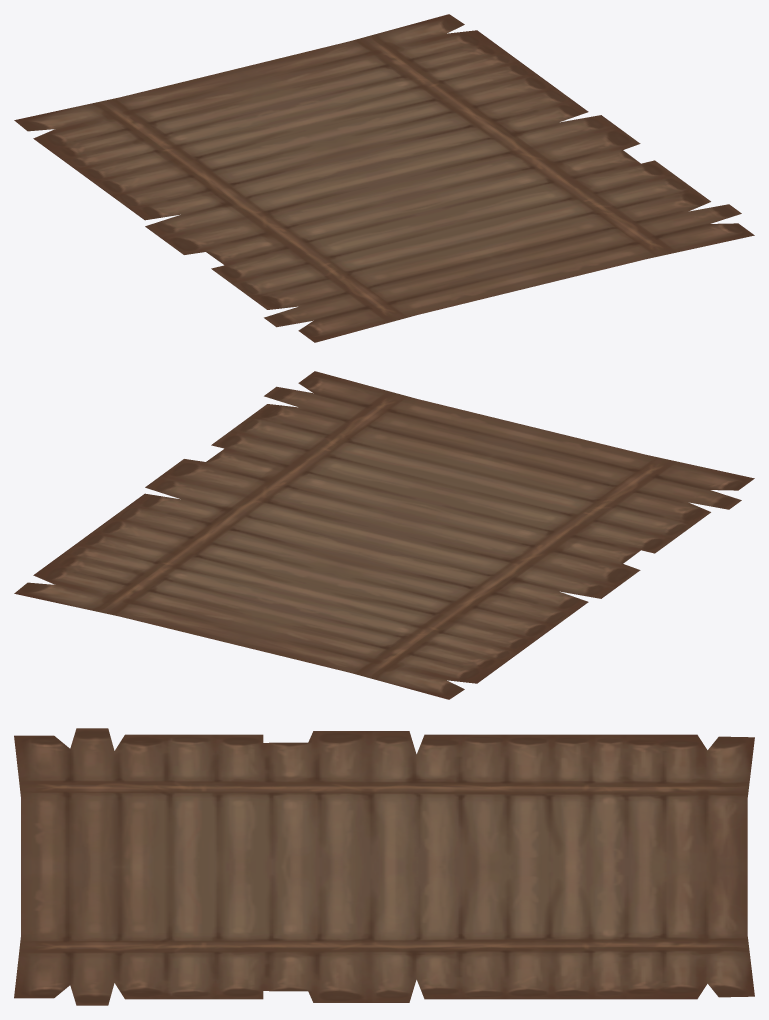
Rendered from Bamboo_underplate.FBX.
3 views of the same model, one above another, from view 1: azimuth 30°, elevation 25°; view 2: azimuth 150°, elevation 25°; view 3: azimuth 270°, elevation 25° (orthographic). The views are drawn at different scales.
Visible parts, largest first — view 1: bamboo_underplate; view 2: bamboo_underplate; view 3: bamboo_underplate.
Boxes of the visible parts, bbox=[...] form: bamboo_underplate: bbox=[14, 14, 754, 342]; bamboo_underplate: bbox=[14, 371, 754, 699]; bamboo_underplate: bbox=[14, 728, 754, 1005].
Bounding box in the file's own units: 125 × 1.34e-05 × 141.
